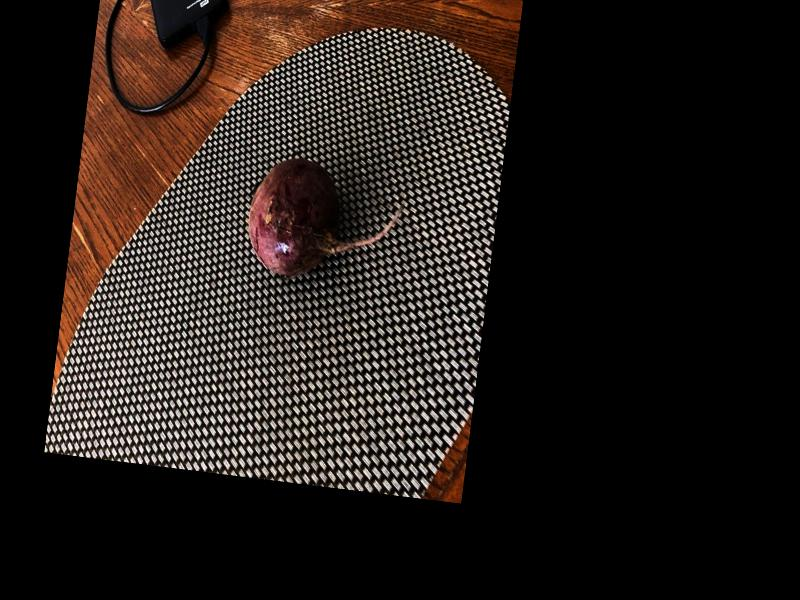Beet: (242, 154, 408, 289)
